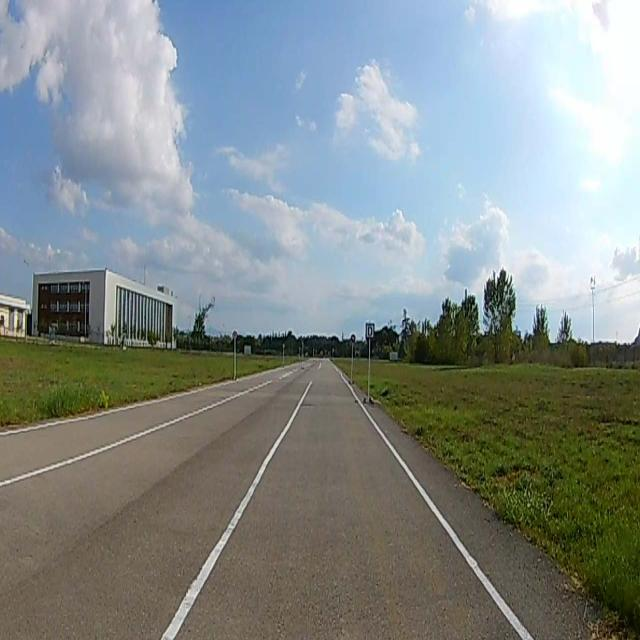durak: (366, 323, 374, 338)
